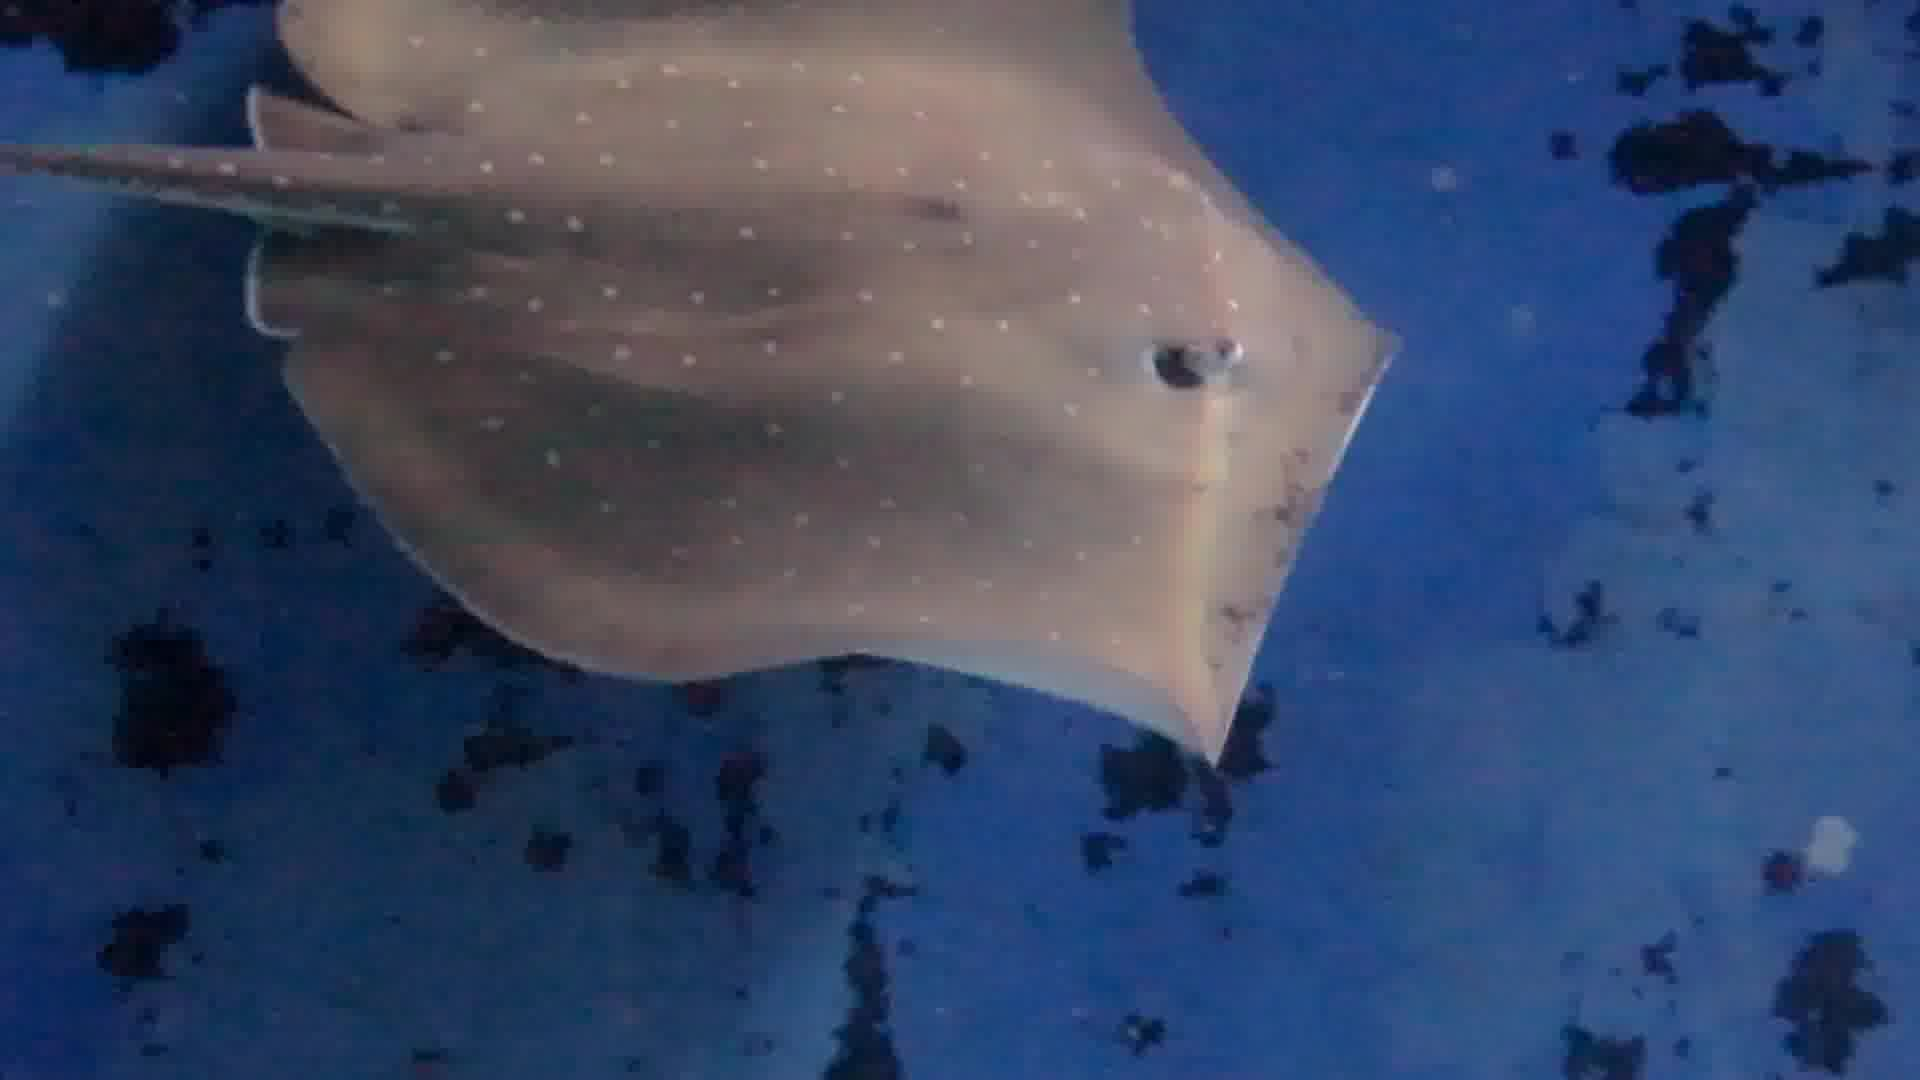Himantura gerrardi: (7, 1, 1352, 775)
